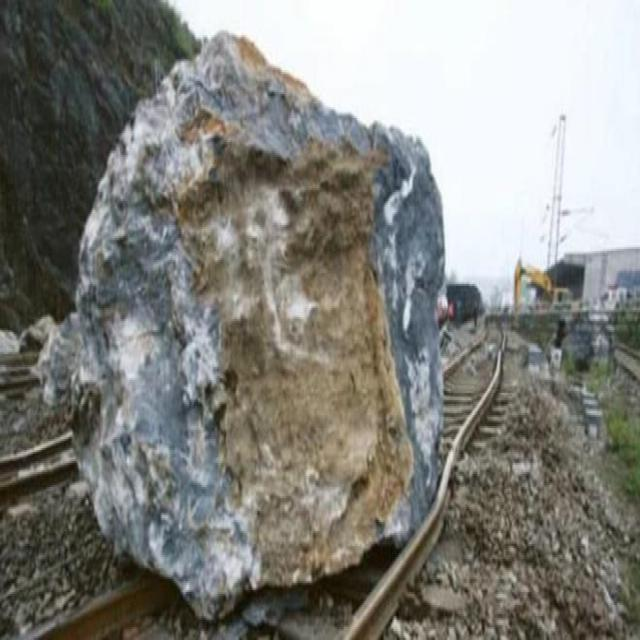Stone: (15, 16, 471, 638)
